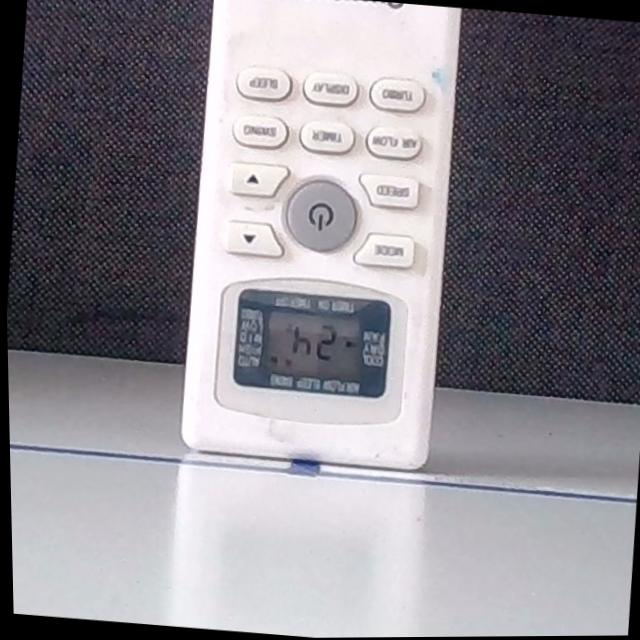remote: (168, 0, 469, 473)
